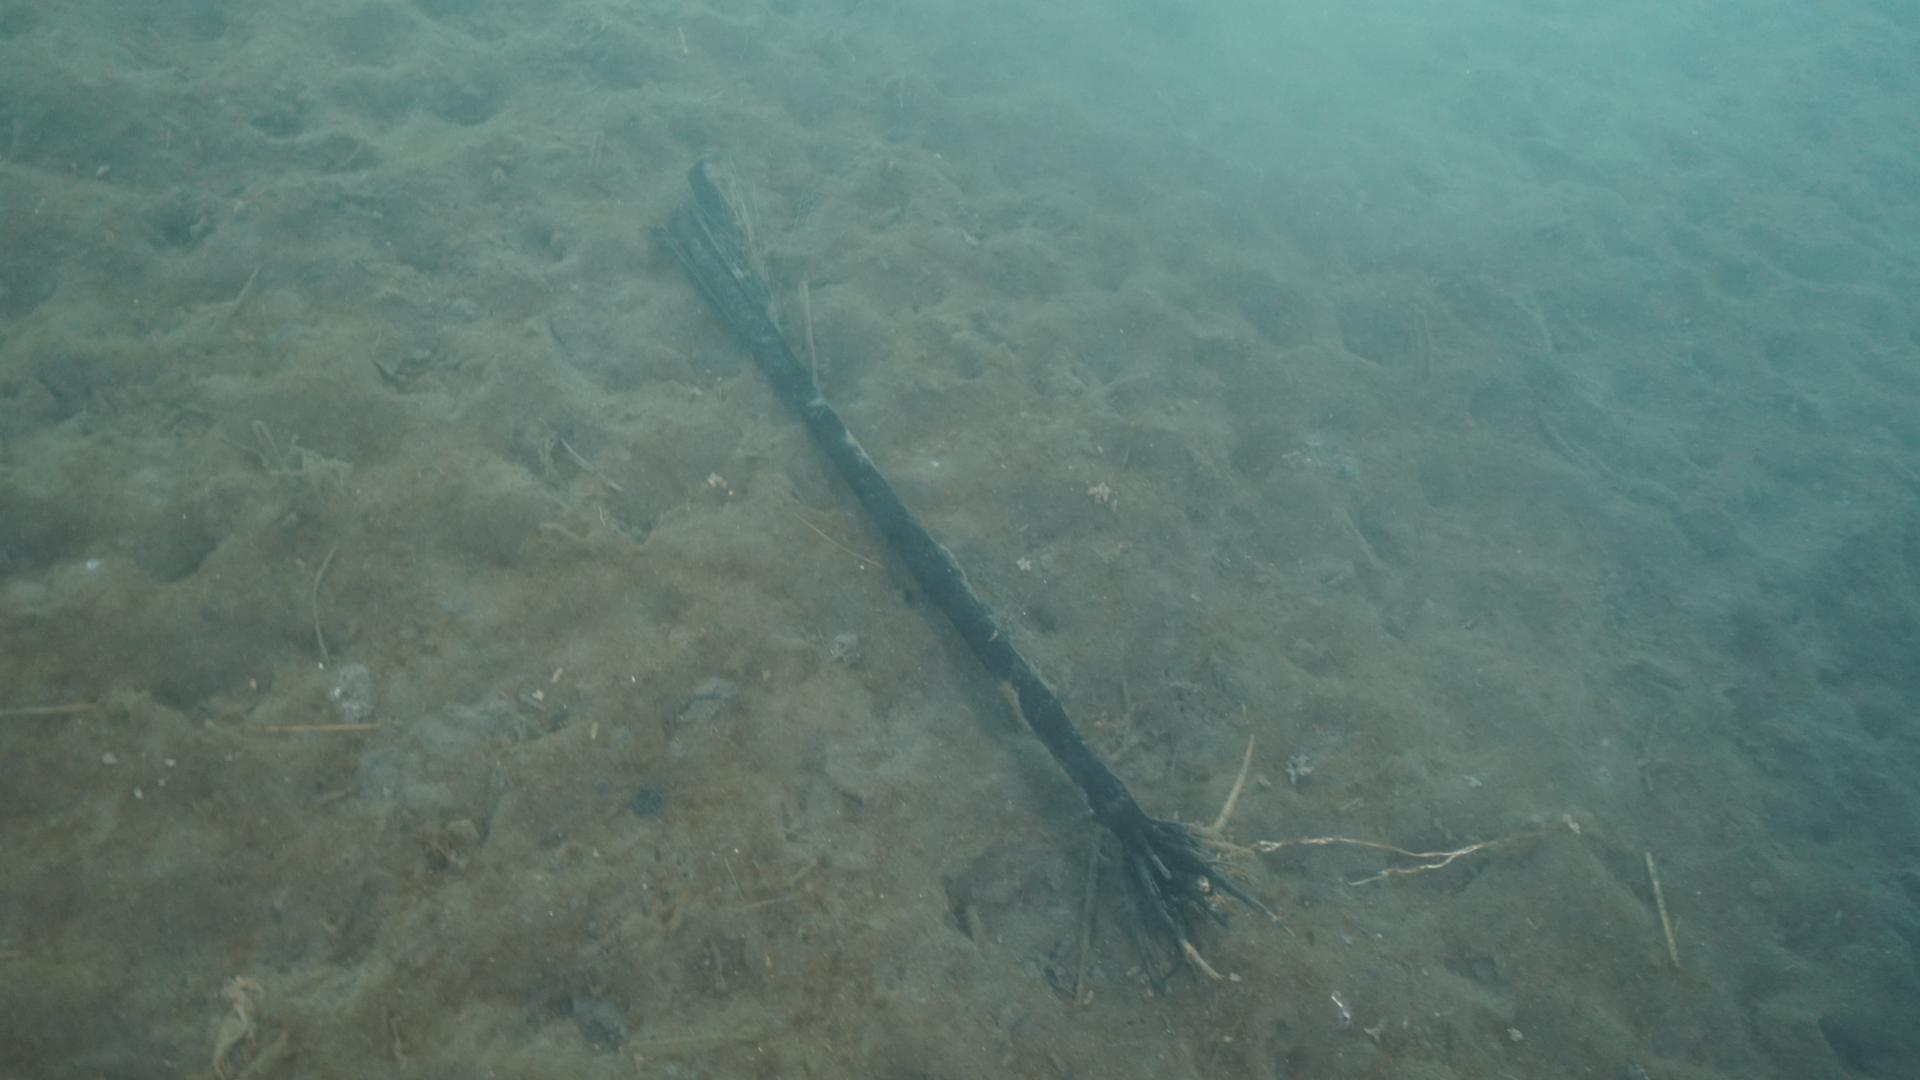wood: (649, 158, 1232, 936)
